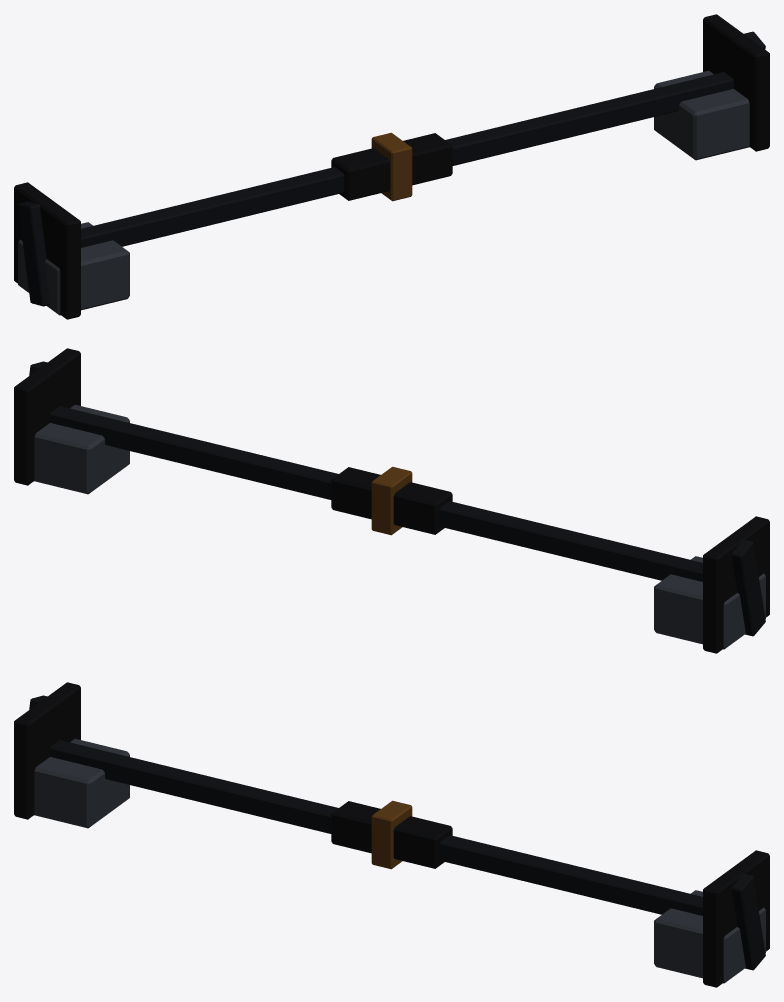
The model's file is mod_iron_tie_rod_2m.glb.
3 renders of one model, top to bottom at view 1: azimuth 30°, elevation 25°; view 2: azimuth 150°, elevation 25°; view 3: azimuth 330°, elevation 25°, orthographic.
Parts seen in each view (by area): view 1: Mod_Iron_Tie_Rod_2m; view 2: Mod_Iron_Tie_Rod_2m; view 3: Mod_Iron_Tie_Rod_2m.
Part boxes in pixels (bbox=[...]): Mod_Iron_Tie_Rod_2m: bbox=[14, 14, 769, 319]; Mod_Iron_Tie_Rod_2m: bbox=[14, 348, 769, 653]; Mod_Iron_Tie_Rod_2m: bbox=[14, 682, 769, 987].
Size of the model in its own units: 2.19 by 0.28 by 0.28.
